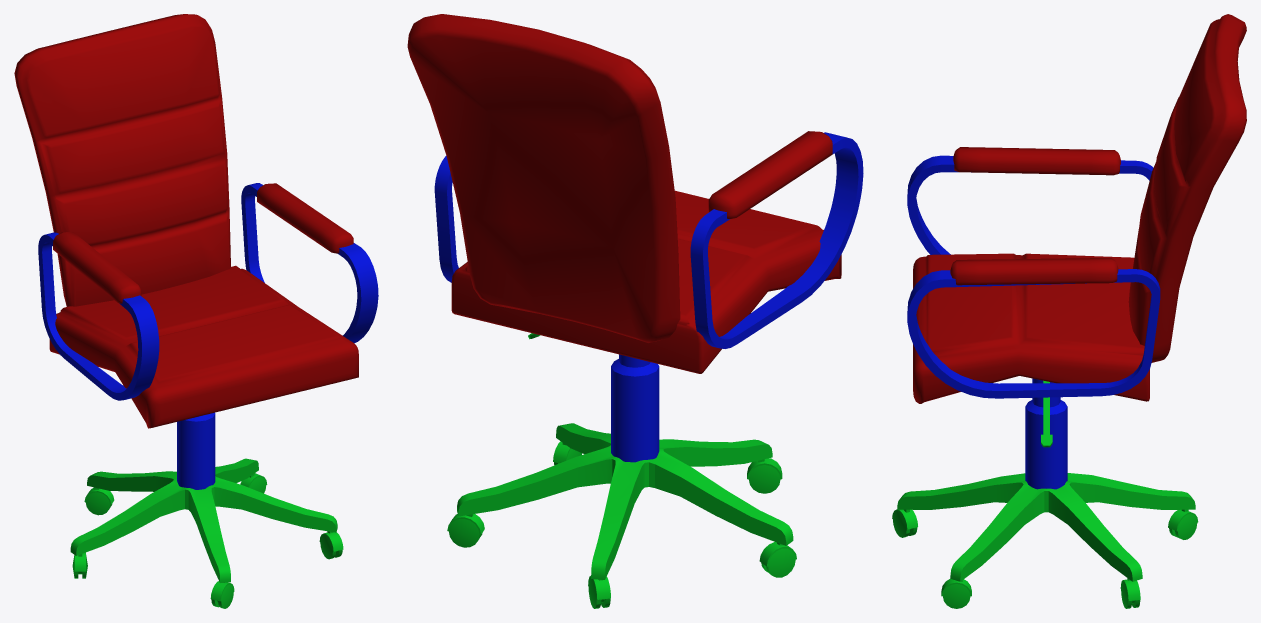
File: chair.FBX
The picture shows the model from 3 angles, left to right: view 1: azimuth 30°, elevation 25°; view 2: azimuth 150°, elevation 25°; view 3: azimuth 270°, elevation 25°; orthographic projection. The views are drawn at different scales.
Visible parts, largest first — view 1: chair_low; view 2: chair_low; view 3: chair_low.
Boxes of the visible parts, x1=… form: chair_low: x1=14, y1=14, x2=378, y2=608; chair_low: x1=407, y1=14, x2=863, y2=608; chair_low: x1=892, y1=14, x2=1246, y2=608.
Bounding box in the file's own units: 68.6 × 124 × 79.04.
